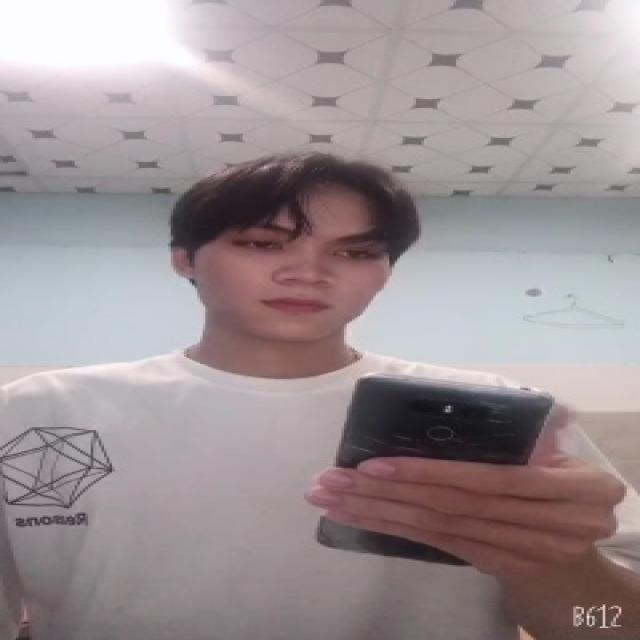Phone: (313, 373, 556, 570)
